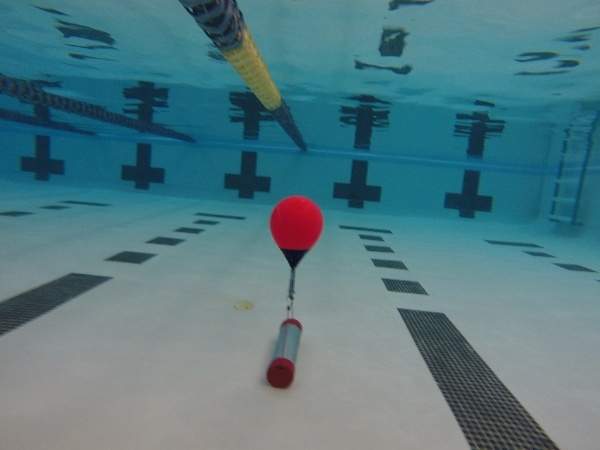buoy_red: (265, 193, 328, 272)
